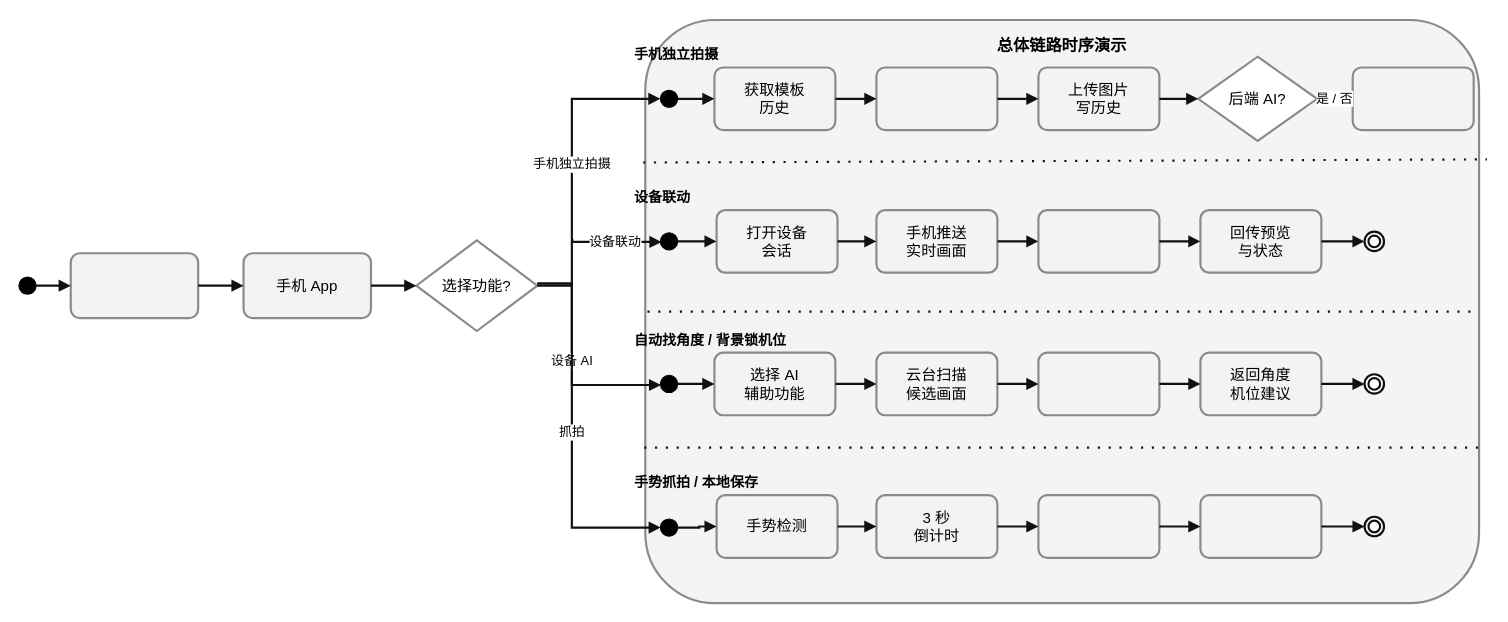
The diagram is 1508 pixels wide and 622 high, and some of its shapes have lost their labels. The centre of each missing label's shape, as x and y in pixels:
保存本地 captures: [1098,526]
手机拍照: [936,98]
树莓派 检测构图: [1098,240]
用户进入 系统: [134,285]
设备端 AI 分析候选: [1098,383]
返回 AI 或历史结果: [1412,98]
返回 capture_path: [1260,526]
